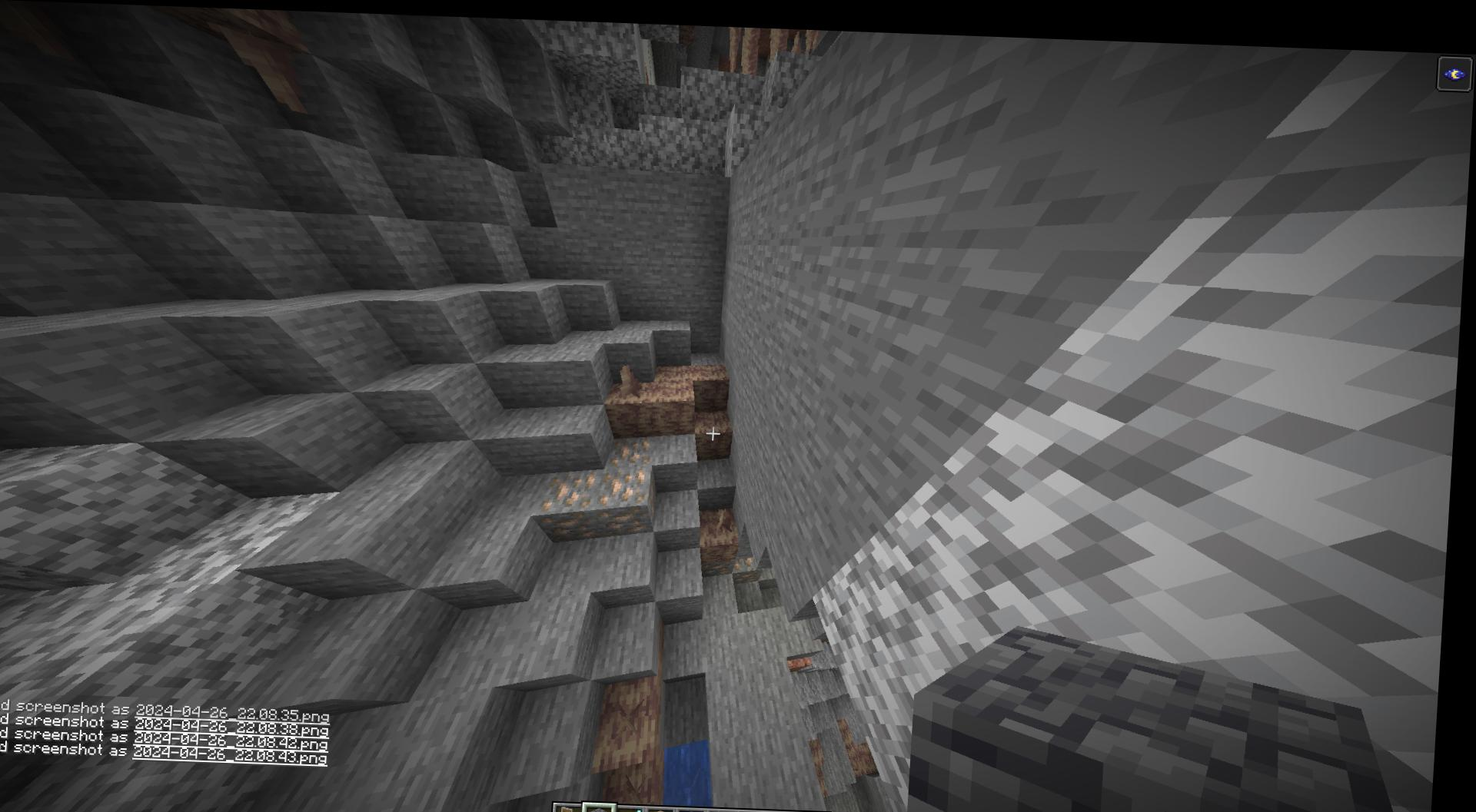iron ore: (547, 499, 656, 540), (549, 467, 603, 508), (604, 463, 654, 500), (613, 431, 658, 465), (735, 545, 770, 575)
